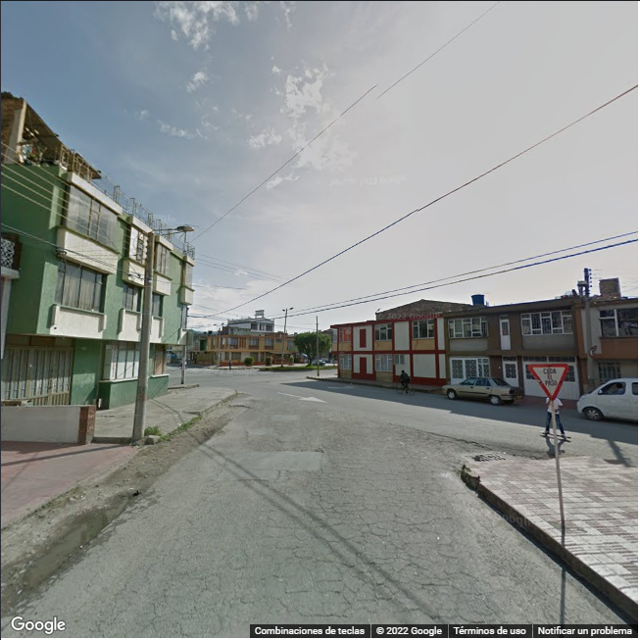D00: (98, 542, 156, 625)
D20: (255, 483, 497, 617)
